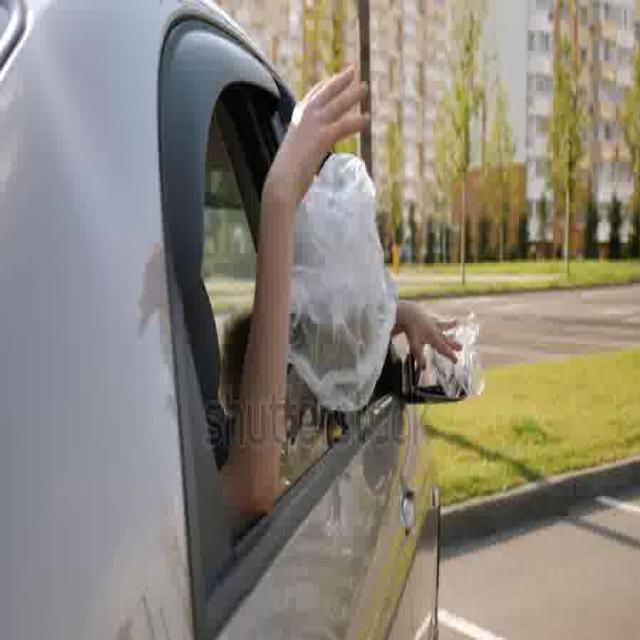trash: (286, 136, 396, 422), (416, 321, 488, 402)
